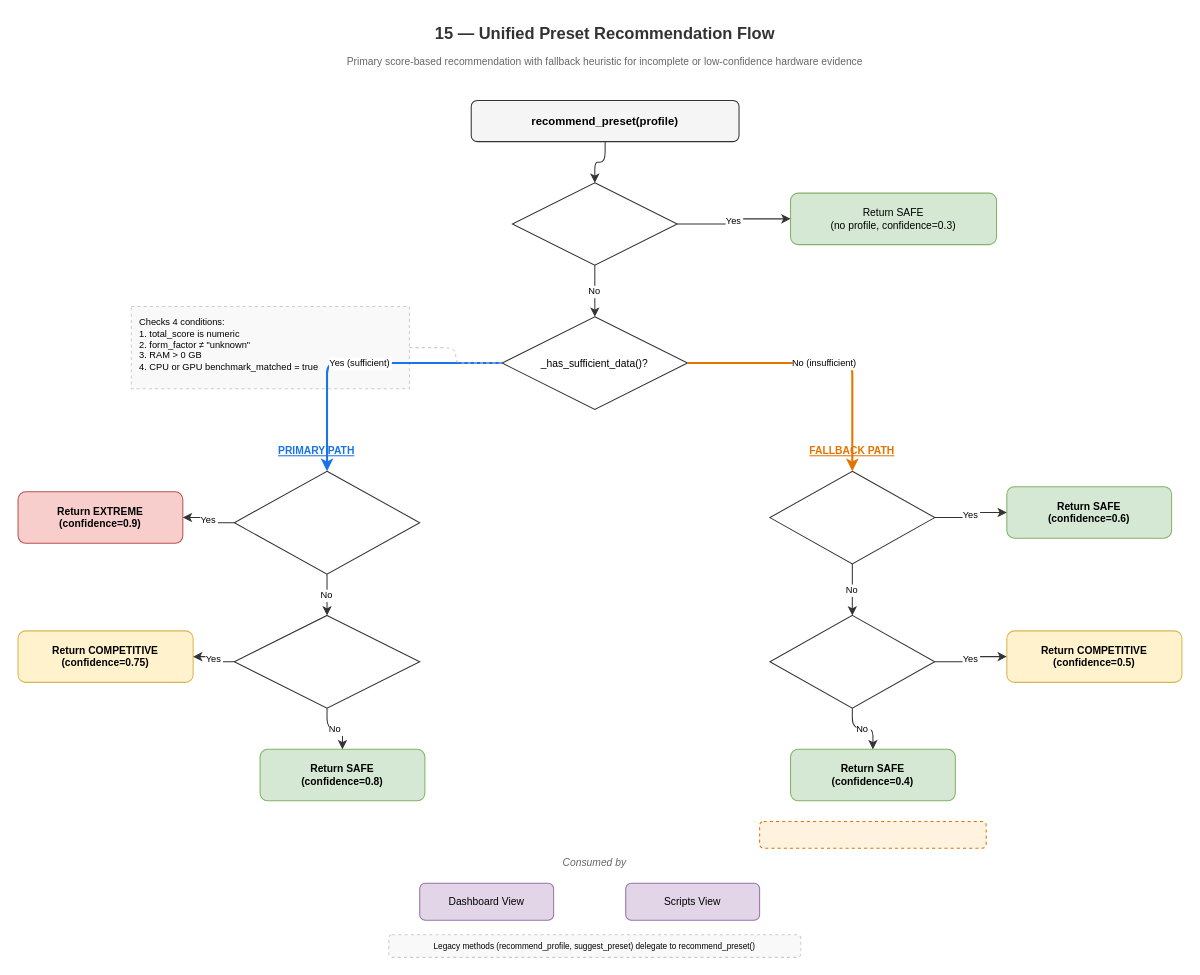
Some shapes in this 1200 by 975 pixel diagram are drawn without their labels. The centre of each missing label's shape, as x and y in pixels:
Fallback NEVER returns EXTREME: point (872, 834)
form_factor == "laptop"?: point (852, 517)
profile is None?: point (594, 223)
score ≥ 50 AND RAM ≥ 8 GB?: point (326, 661)
score ≥ 80 AND desktop AND RAM ≥ 16 GB?: point (326, 522)
tier ∈ {high, enthusiast, mid}?: point (852, 661)
